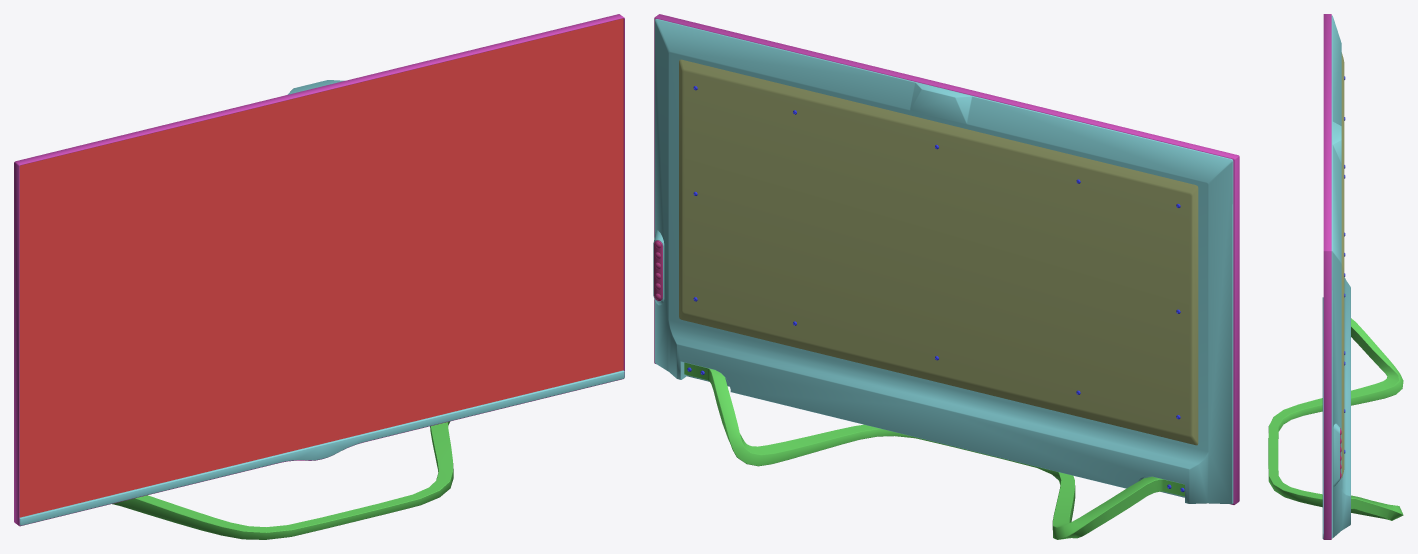
The model's file is House_Television.FBX.
3 renders of one model, left to right at view 1: azimuth 30°, elevation 25°; view 2: azimuth 150°, elevation 25°; view 3: azimuth 270°, elevation 25°, orthographic. The views are drawn at different scales.
Visible parts, largest first — view 1: House_Television_Screen, House_Television_Metal_04, House_Television_Metal_01, House_Television_Metal_03; view 2: House_Television_Metal_02, House_Television_Metal_01, House_Television_Metal_03, House_Television_Metal_04; view 3: House_Television_Metal_01, House_Television_Metal_04, House_Television_Metal_03, House_Television_Metal_02.
Part boxes in pixels (box(x1,y1,x2,y2)): House_Television_Screen: box(19, 18, 623, 517); House_Television_Metal_04: box(14, 14, 624, 526); House_Television_Metal_01: box(19, 80, 624, 525); House_Television_Metal_03: box(112, 421, 453, 539); House_Television_Metal_02: box(679, 59, 1198, 445); House_Television_Metal_01: box(653, 19, 1233, 504); House_Television_Metal_03: box(684, 362, 1184, 539); House_Television_Metal_04: box(654, 14, 1239, 504); House_Television_Metal_01: box(1322, 15, 1350, 539); House_Television_Metal_04: box(1323, 14, 1331, 539); House_Television_Metal_03: box(1268, 318, 1403, 520); House_Television_Metal_02: box(1341, 52, 1344, 478).
Bounding box in the file's own units: 123 × 78.57 × 29.62.
